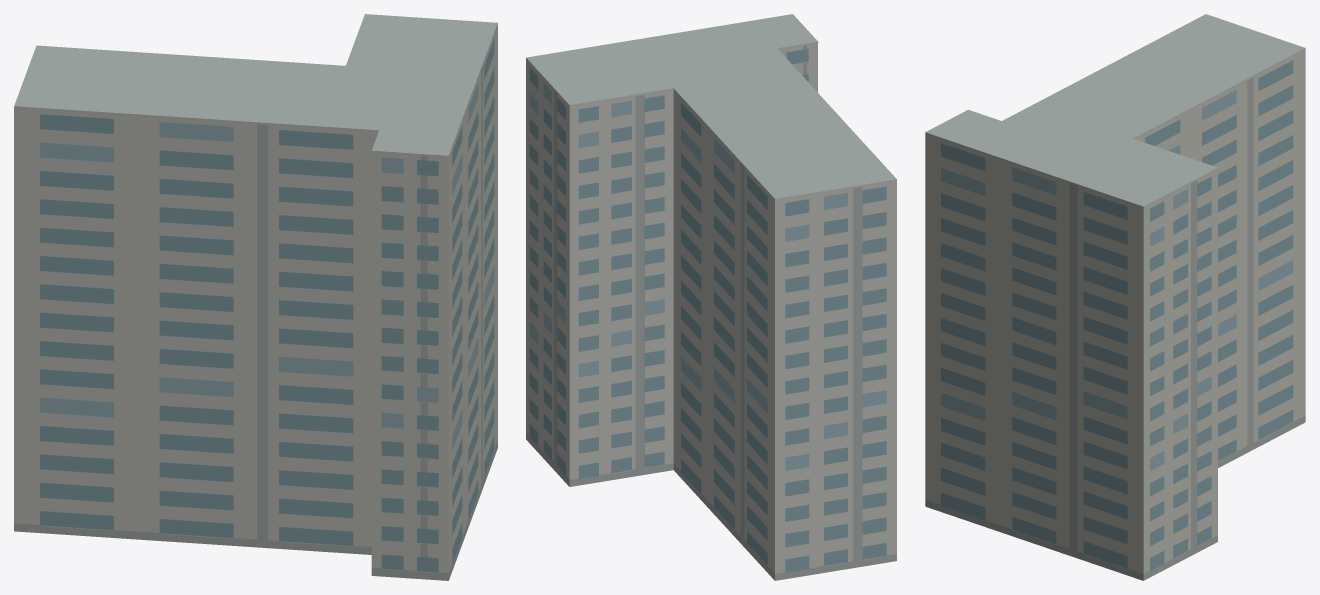
Rendered from residential-956b65ac-56fd-40f7-850c-b16349a6d5ba.glb.
3 views of the same model, side by side, from view 1: azimuth 30°, elevation 25°; view 2: azimuth 150°, elevation 25°; view 3: azimuth 270°, elevation 25° (orthographic). The views are drawn at different scales.
Parts seen in each view (by area): view 1: residential-956b65ac-56fd-40f7-850c-b16349a6d5ba.tmp; view 2: residential-956b65ac-56fd-40f7-850c-b16349a6d5ba.tmp; view 3: residential-956b65ac-56fd-40f7-850c-b16349a6d5ba.tmp.
Boxes of the visible parts, x1,y1,x2,y2 form: residential-956b65ac-56fd-40f7-850c-b16349a6d5ba.tmp: (14,14,497,580); residential-956b65ac-56fd-40f7-850c-b16349a6d5ba.tmp: (526,14,896,580); residential-956b65ac-56fd-40f7-850c-b16349a6d5ba.tmp: (925,14,1305,580).
Size of the model in its own units: 55.18 by 50 by 46.06.
